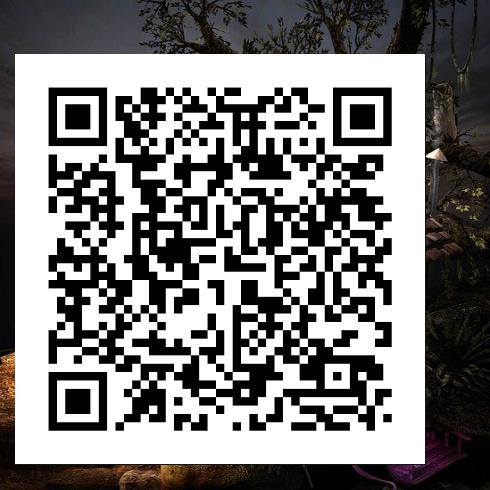qr_code: (15, 54, 425, 464)
